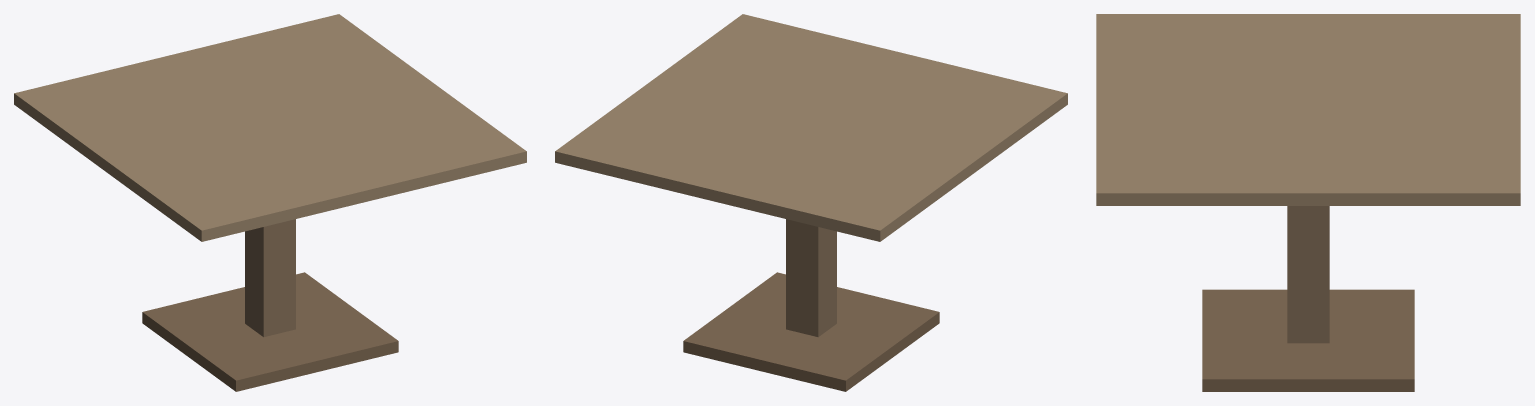
Rendered from tableRound.glb.
The picture shows the model from 3 angles, left to right: view 1: azimuth 30°, elevation 25°; view 2: azimuth 150°, elevation 25°; view 3: azimuth 270°, elevation 25°; orthographic projection. The views are drawn at different scales.
Size of the model in its own units: 1.2 by 0.76 by 1.2.
